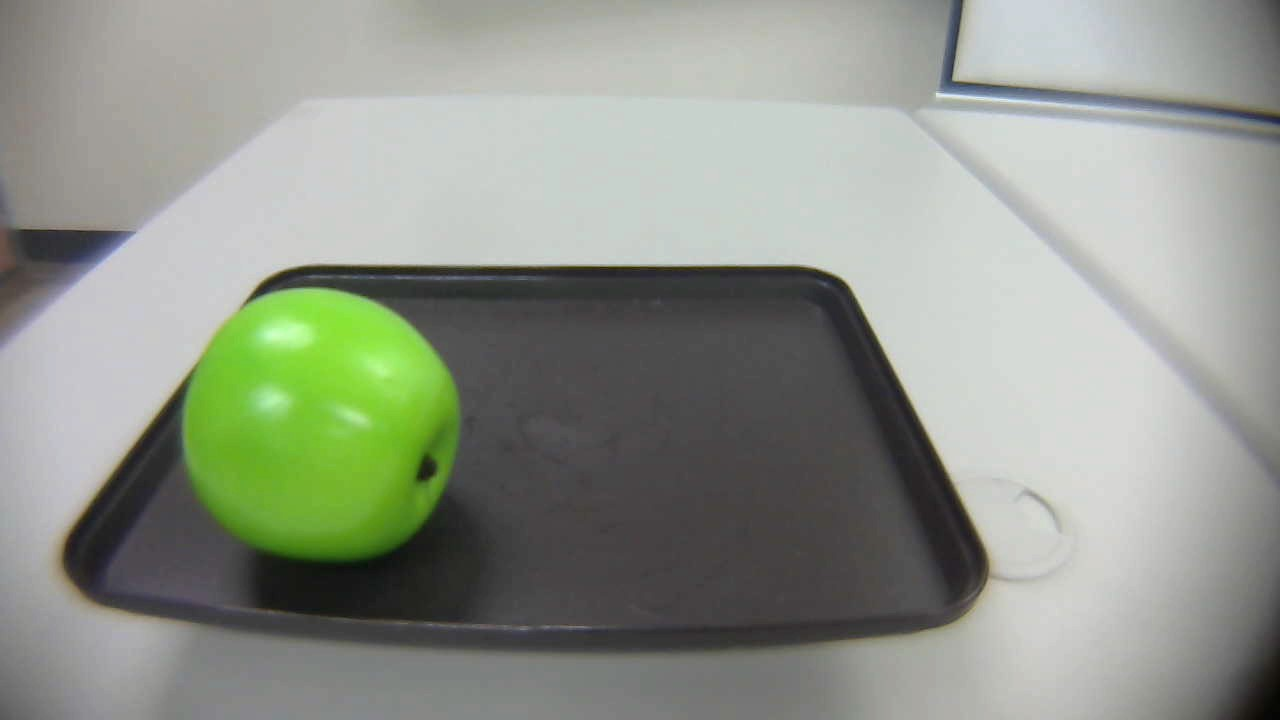green apple: (175, 284, 468, 566)
